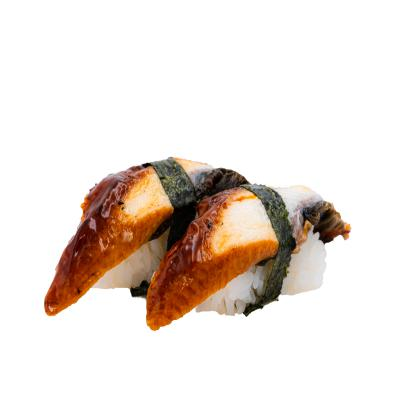unagi: (144, 174, 358, 341)
